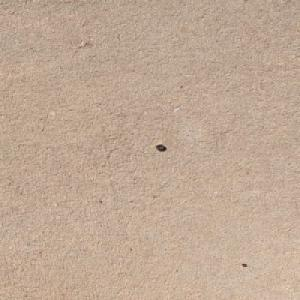Nut: (155, 143, 164, 149)
